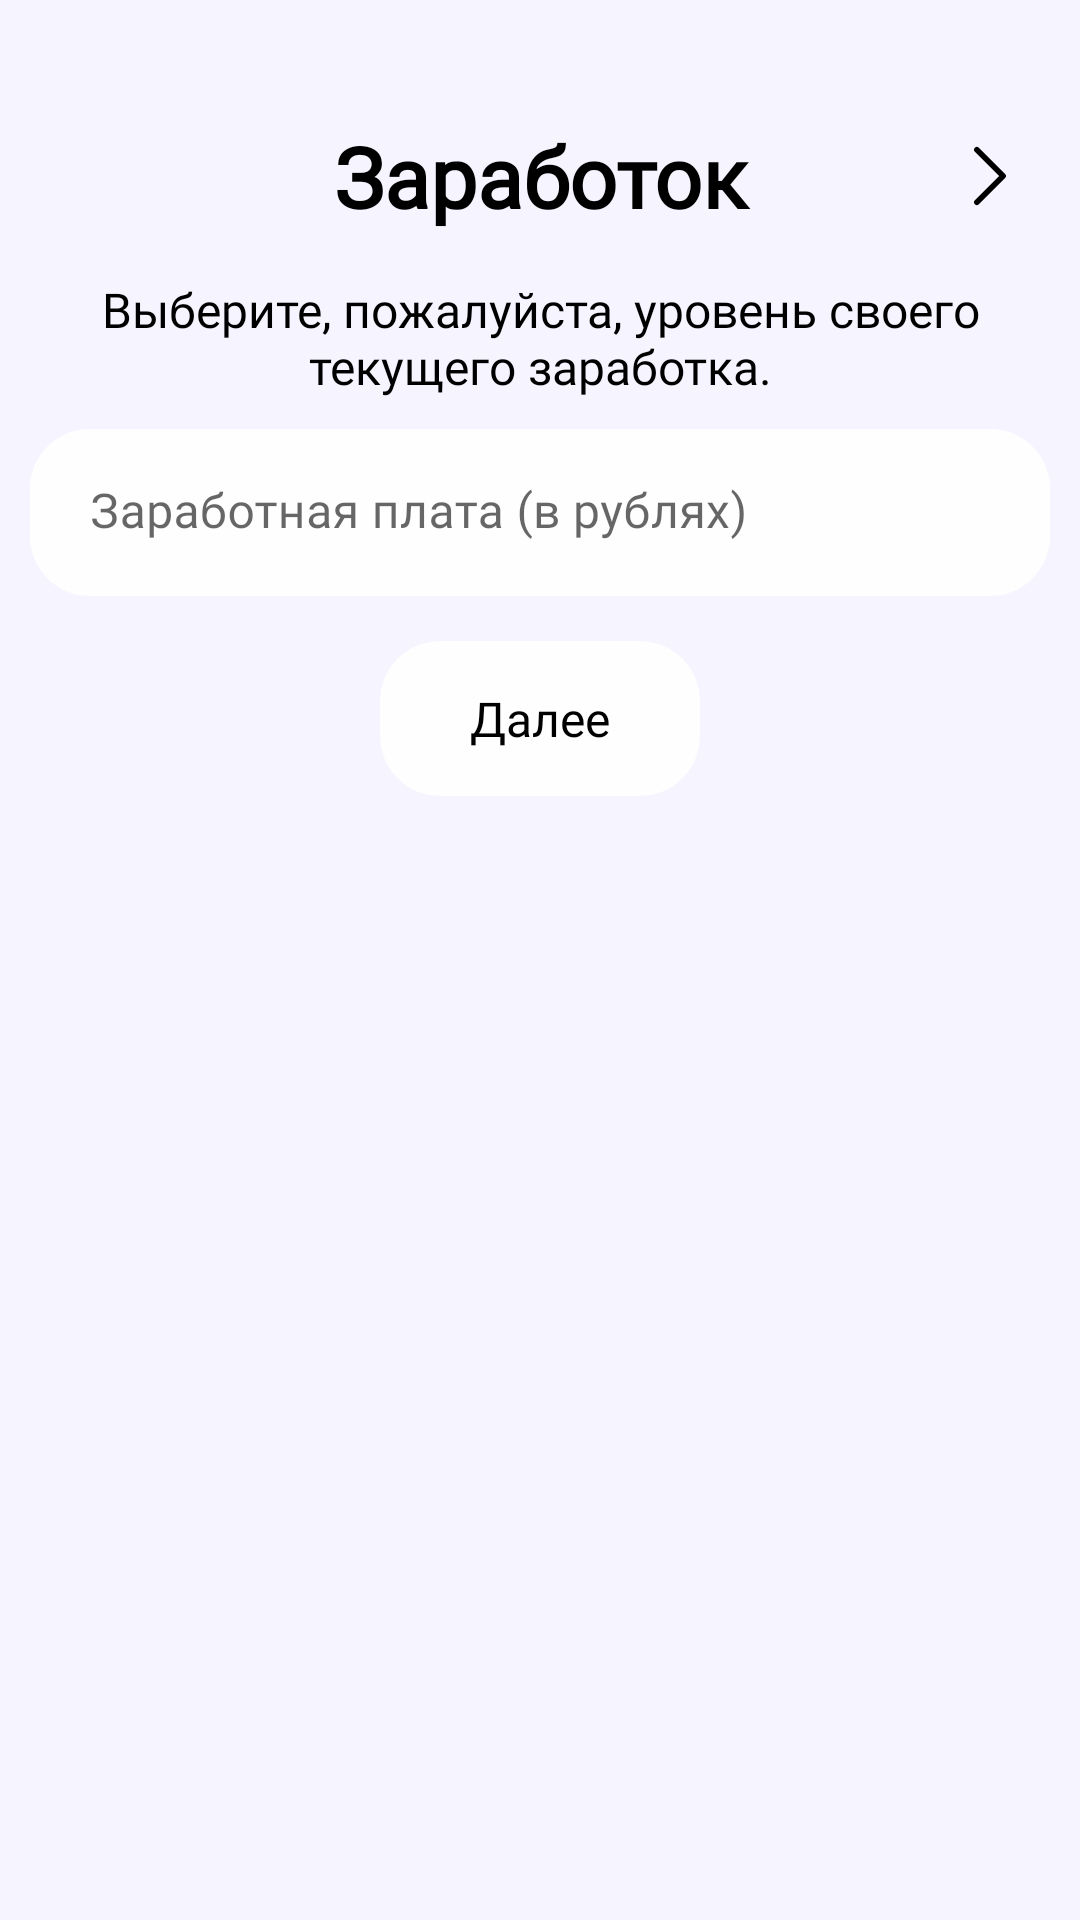

Named icons in this screenshot (1080x1920) and their bounding boxes, (x1, y1, x2, y2):
arrow right: (974, 146, 1006, 206)
